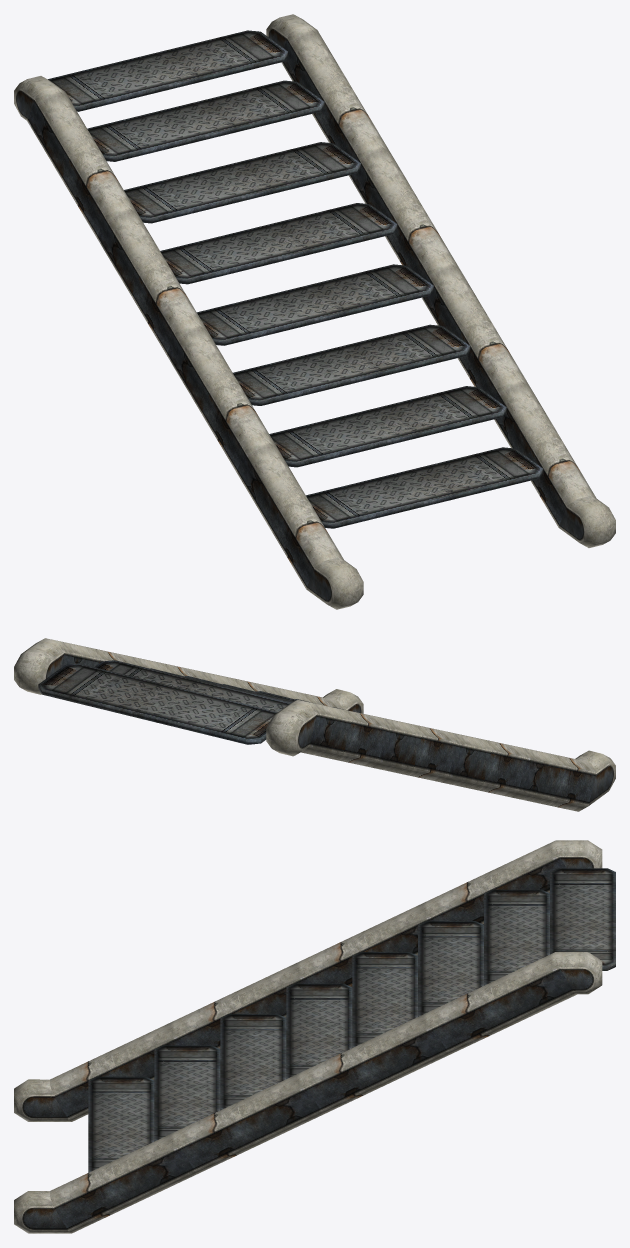
The model's file is metal_datasite_straight_short_white.dae.
The picture shows the model from 3 angles, top to bottom: view 1: azimuth 30°, elevation 25°; view 2: azimuth 150°, elevation 25°; view 3: azimuth 270°, elevation 25°; orthographic projection. The views are drawn at different scales.
Visible parts, largest first — view 1: stairs_straight_short1; view 2: stairs_straight_short1; view 3: stairs_straight_short1.
Part boxes in pixels (x1=…): stairs_straight_short1: x1=14, y1=14, x2=615, y2=609; stairs_straight_short1: x1=14, y1=638, x2=615, y2=811; stairs_straight_short1: x1=14, y1=840, x2=615, y2=1233.
Bounding box in the file's own units: 2.24 × 2.3 × 4.56.
Materials: 1 (1 with a texture image).
